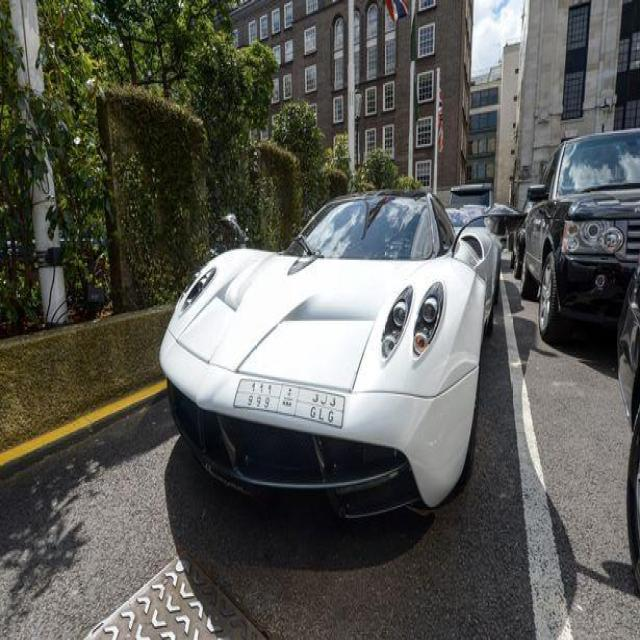license_plate: (229, 364, 349, 432)
